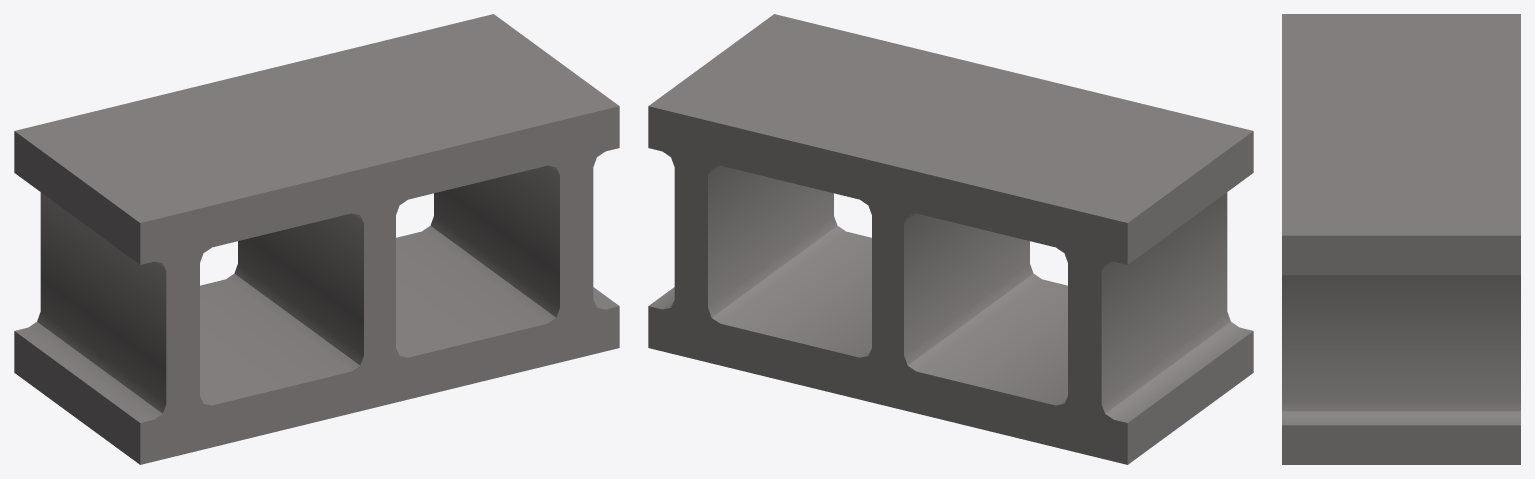
File: Cinder Block.glb
The picture shows the model from 3 angles, left to right: view 1: azimuth 30°, elevation 25°; view 2: azimuth 150°, elevation 25°; view 3: azimuth 270°, elevation 25°; orthographic projection. The views are drawn at different scales.
Parts seen in each view (by area): view 1: CinderBlock; view 2: CinderBlock; view 3: CinderBlock.
Boxes of the visible parts, left/top/right/bottom form: CinderBlock: left=14, top=14, right=619, bottom=464; CinderBlock: left=648, top=14, right=1253, bottom=464; CinderBlock: left=1282, top=14, right=1520, bottom=464.
Bounding box in the file's own units: 0.4716 × 0.2274 × 0.2145.
1 material, 1 textured.
